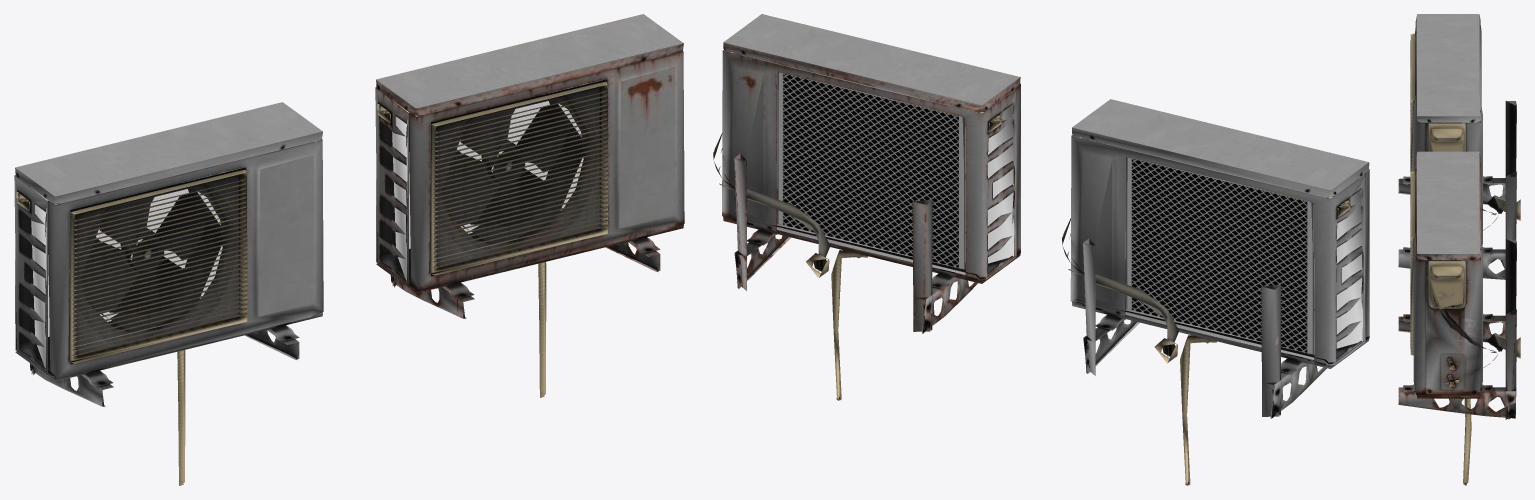
File: exterior_aircon_unit.glb
3 renders of one model, left to right at view 1: azimuth 30°, elevation 25°; view 2: azimuth 150°, elevation 25°; view 3: azimuth 270°, elevation 25°, orthographic. The views are drawn at different scales.
Visible parts, largest first — view 1: exterior_aircon_unit, exterior_aircon_unit_rusted; view 2: exterior_aircon_unit_rusted, exterior_aircon_unit; view 3: exterior_aircon_unit_rusted, exterior_aircon_unit.
Part boxes in pixels (<box>): exterior_aircon_unit: <box>14,102,323,485</box>; exterior_aircon_unit_rusted: <box>375,14,684,397</box>; exterior_aircon_unit_rusted: <box>713,14,1020,400</box>; exterior_aircon_unit: <box>1062,99,1369,485</box>; exterior_aircon_unit_rusted: <box>1398,151,1520,485</box>; exterior_aircon_unit: <box>1398,14,1520,279</box>.
Size of the model in its own units: 1.8 by 0.9265 by 0.3748.
4 materials, 4 textured.
